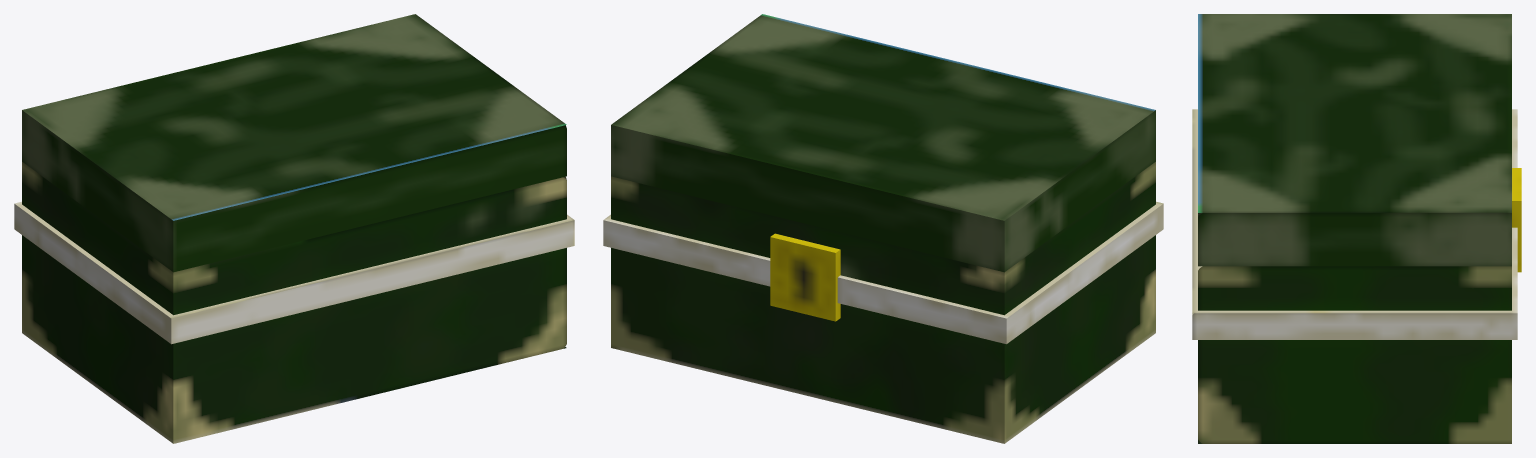
The model's file is airdrop_crate_closed.obj.
3 views of the same model, side by side, from view 1: azimuth 30°, elevation 25°; view 2: azimuth 150°, elevation 25°; view 3: azimuth 270°, elevation 25° (orthographic). The views are drawn at different scales.
Parts seen in each view (by area): view 1: chest_lid, chest_body, metal_band_middle; view 2: chest_lid, chest_body, metal_band_middle, front_lock; view 3: chest_lid, chest_body, metal_band_middle, front_lock.
Part boxes in pixels (box(x1,y1,x2,y2)): chest_lid: box(22, 14, 566, 272); chest_body: box(22, 162, 566, 443); metal_band_middle: box(14, 201, 574, 344); chest_lid: box(611, 14, 1155, 272); chest_body: box(611, 162, 1155, 443); metal_band_middle: box(603, 201, 1163, 344); front_lock: box(770, 233, 840, 321); chest_lid: box(1198, 14, 1511, 266); chest_body: box(1198, 213, 1511, 443); metal_band_middle: box(1192, 109, 1517, 339); front_lock: box(1512, 168, 1521, 272).
Size of the model in its own units: 1.54 by 0.8125 by 1.05.
